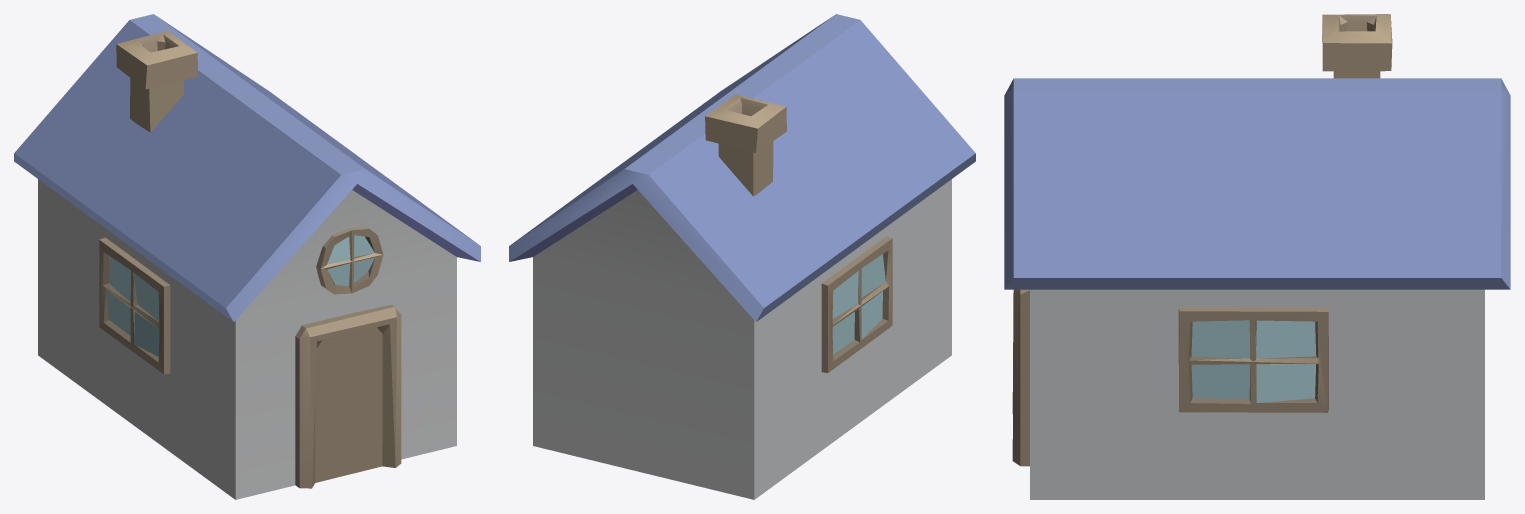
Rendered from RW_HG_Build_House.001.fbx.
3 views of the same model, side by side, from view 1: azimuth 30°, elevation 25°; view 2: azimuth 150°, elevation 25°; view 3: azimuth 270°, elevation 25° (orthographic). The views are drawn at different scales.
Parts seen in each view (by area): view 1: WW_HG_Build_House.001; view 2: WW_HG_Build_House.001; view 3: WW_HG_Build_House.001.
Part boxes in pixels (<box>): WW_HG_Build_House.001: <box>14,14,480,499</box>; WW_HG_Build_House.001: <box>509,14,975,499</box>; WW_HG_Build_House.001: <box>1004,14,1510,499</box>.
Size of the model in its own units: 0.6624 by 0.8366 by 0.9889.
